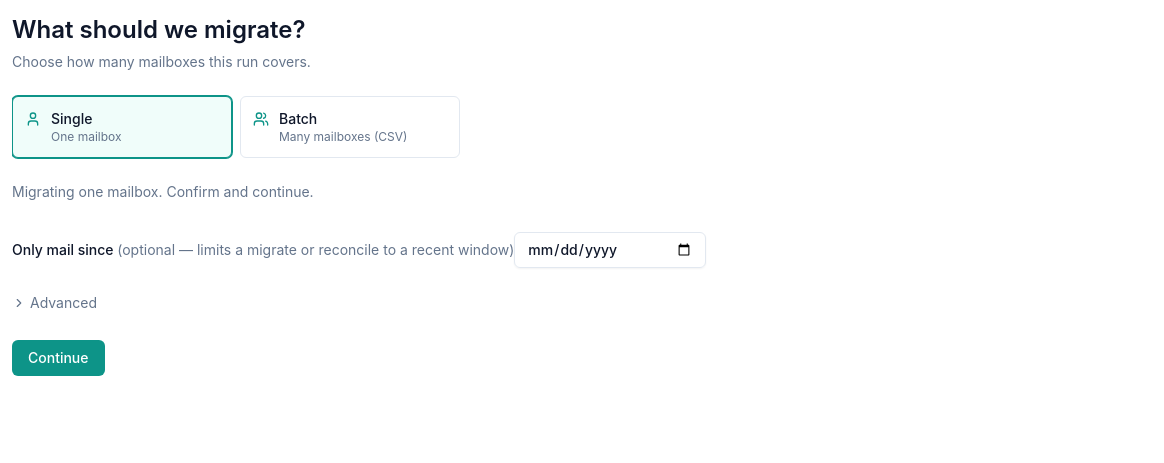
Test case: StepScope › surfaces an error alert when saveScope rejects (no silent no-op)
Click the button "Continue" at {"x": 58, "y": 358}, box [12,340,104,376]
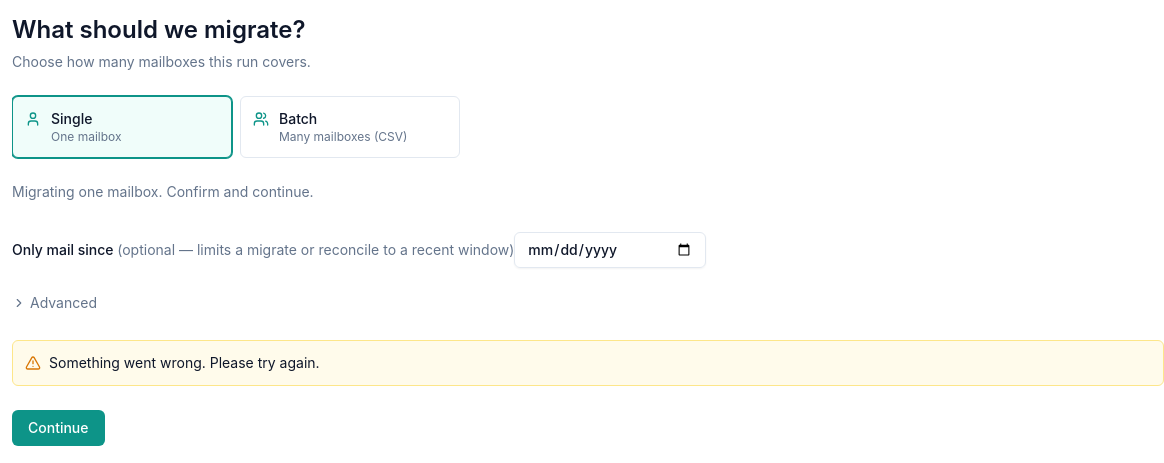
expect the message "Something went wrong. Please try again." is shown: met, box [12,340,1163,386]
